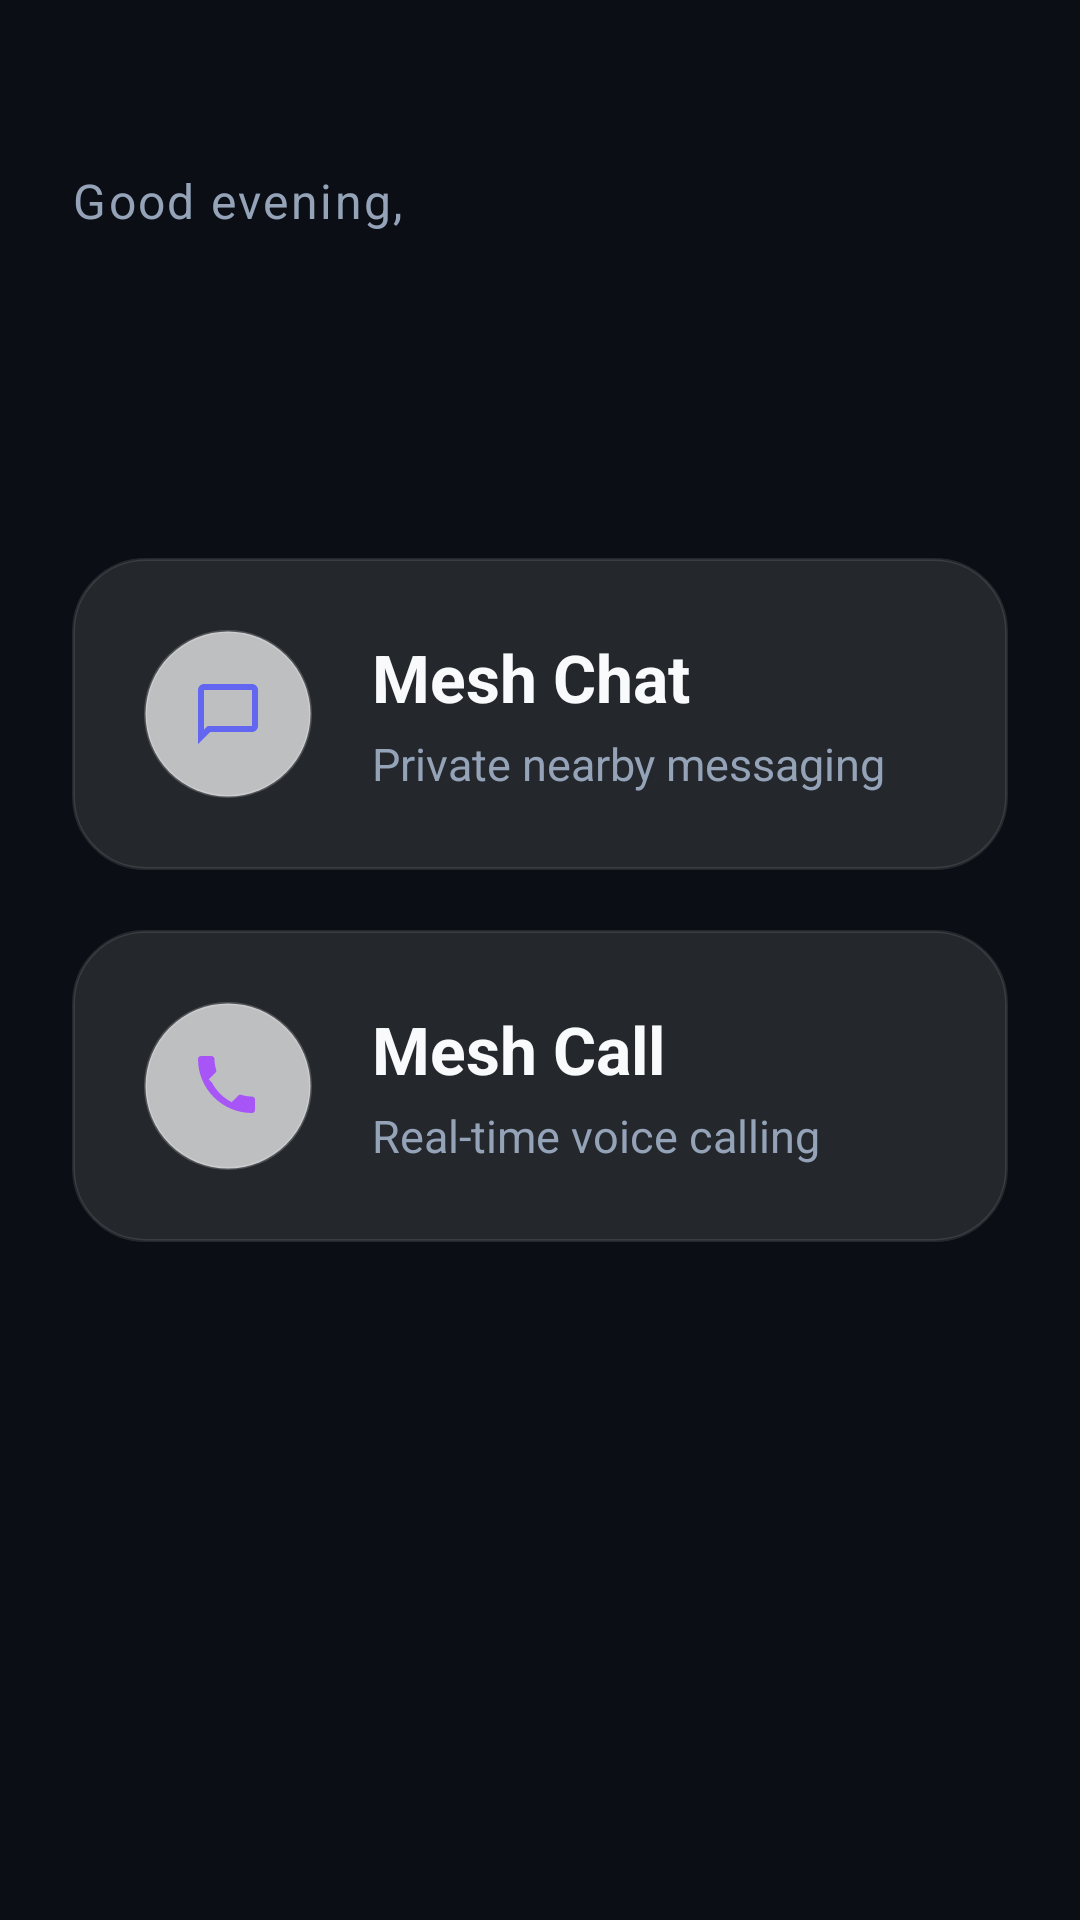

Locate icon controls on the screen. Image size 1080*1920, boxes as [x1=x1, y1=y1, x2=x2, y2=y2].
call premium: [x1=144, y1=1002, x2=312, y2=1170]
chat premium: [x1=144, y1=630, x2=312, y2=798]
